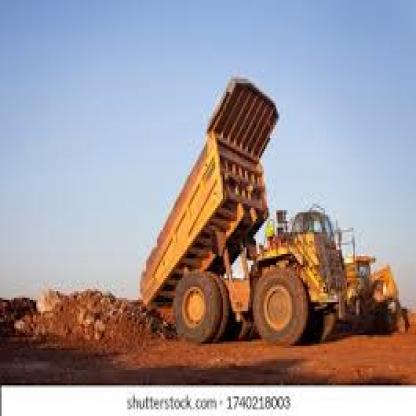dump_truck: (139, 79, 346, 348)
